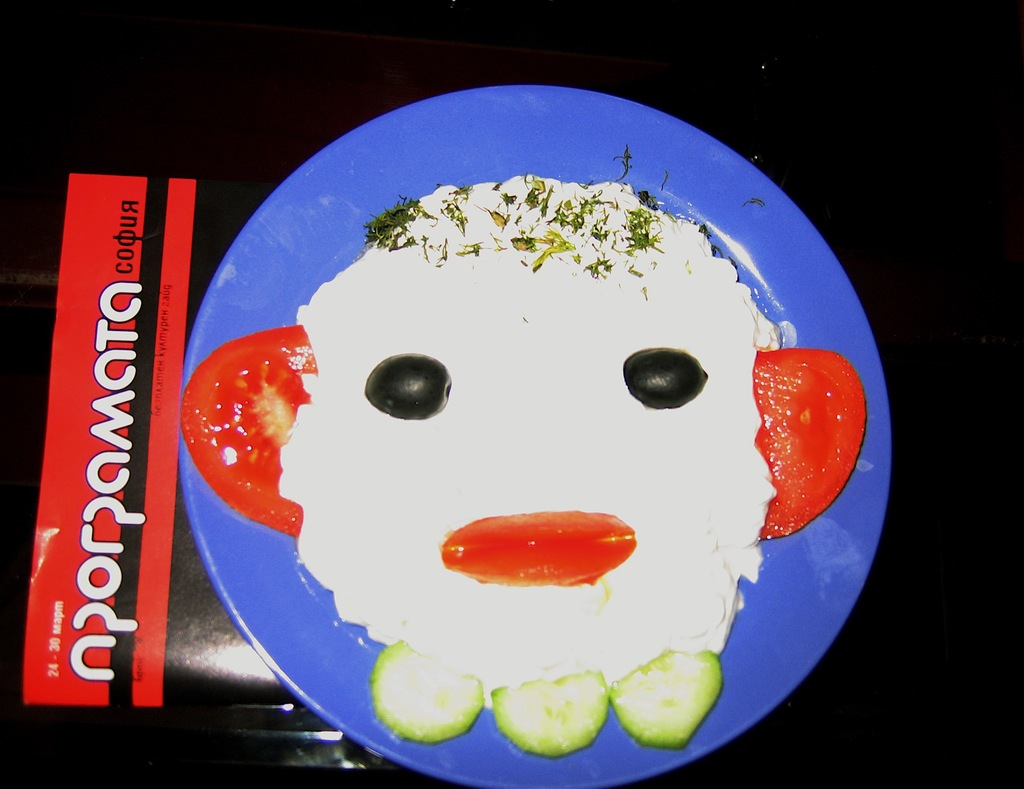plate: (121, 39, 929, 788)
